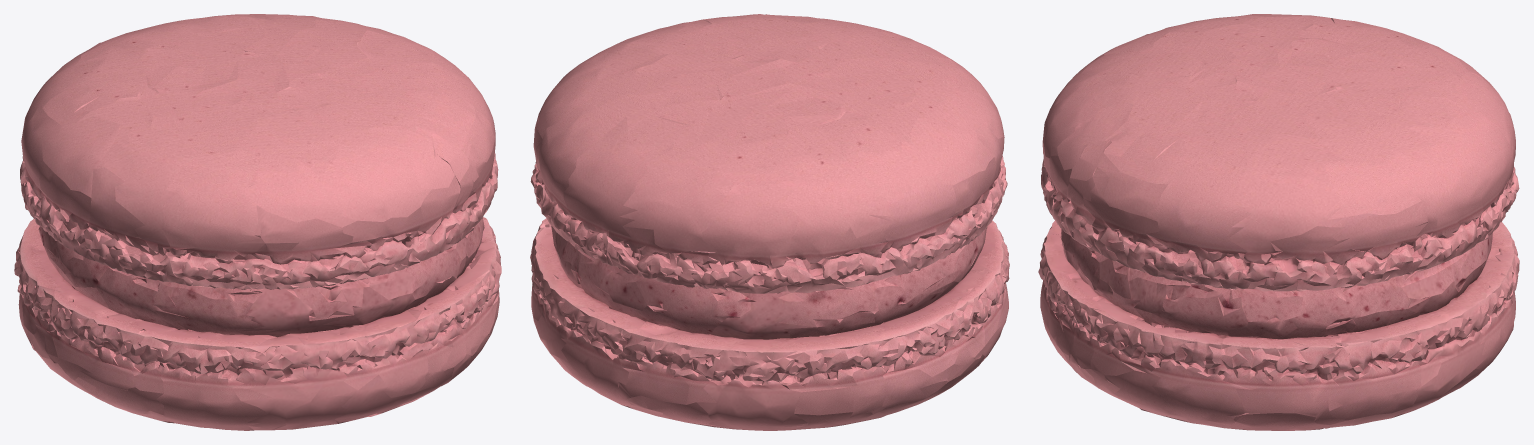
Rendered from macaron.glb.
3 views of the same model, side by side, from view 1: azimuth 30°, elevation 25°; view 2: azimuth 150°, elevation 25°; view 3: azimuth 270°, elevation 25° (orthographic).
Parts seen in each view (by area): view 1: Mesh_0; view 2: Mesh_0; view 3: Mesh_0.
Boxes of the visible parts, left/top/right/bottom form: Mesh_0: left=14, top=14, right=501, bottom=430; Mesh_0: left=530, top=14, right=1009, bottom=430; Mesh_0: left=1038, top=14, right=1519, bottom=430.
Size of the model in its own units: 1.89 by 1.16 by 1.89.
1 material, 1 textured.
